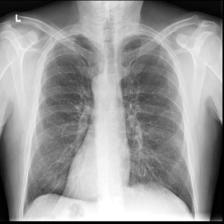normal: (18, 25, 201, 224)
